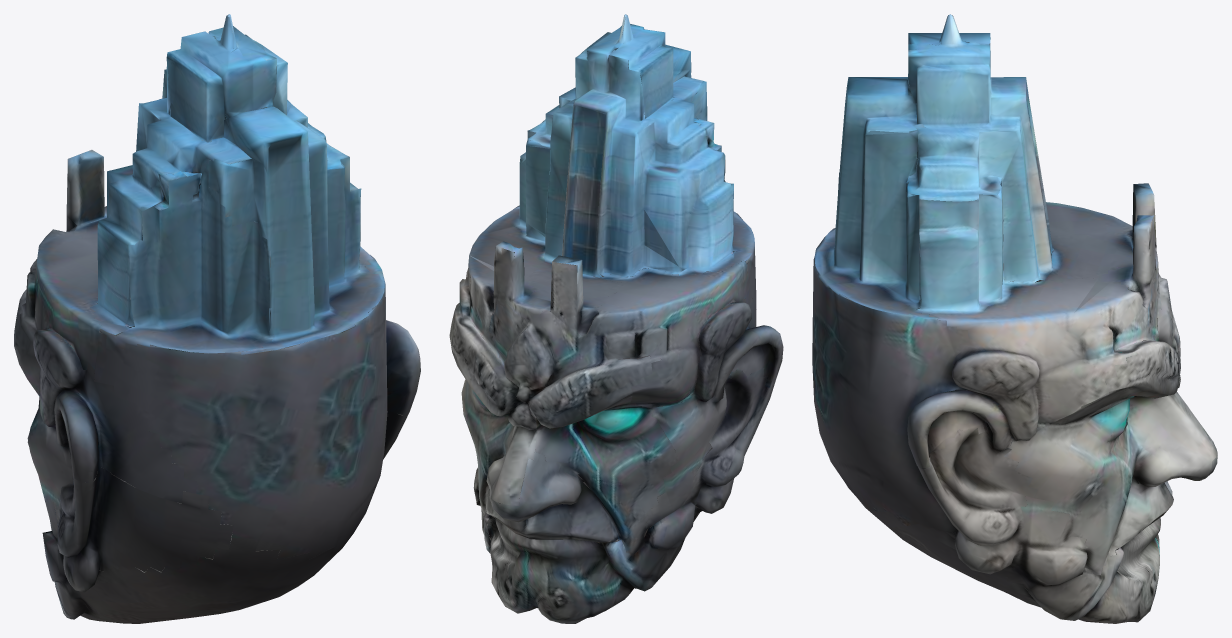
File: gedung-titan.glb
3 views of the same model, side by side, from view 1: azimuth 30°, elevation 25°; view 2: azimuth 150°, elevation 25°; view 3: azimuth 270°, elevation 25° (orthographic). The views are drawn at different scales.
Parts seen in each view (by area): view 1: gedung-titan; view 2: gedung-titan; view 3: gedung-titan.
Part boxes in pixels (<box>): gedung-titan: <box>14,14,420,623</box>; gedung-titan: <box>449,14,783,623</box>; gedung-titan: <box>812,14,1217,623</box>.
Bounding box in the file's own units: 0.5549 × 0.9997 × 0.6213.
Materials: 1 (1 with a texture image).
